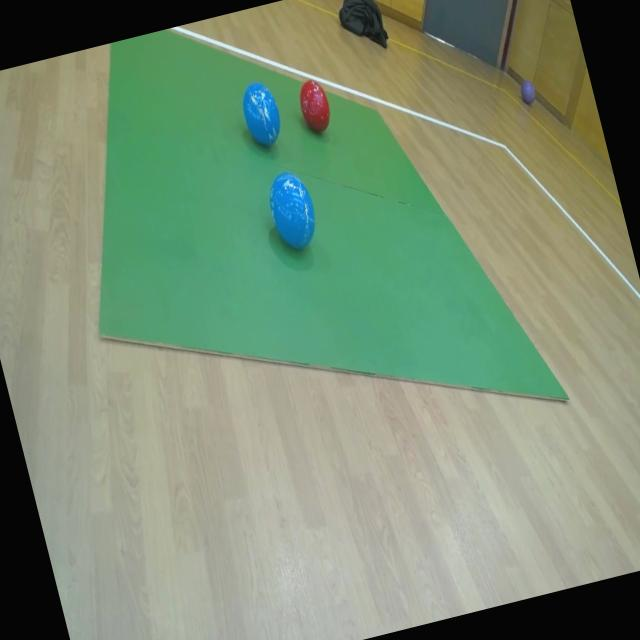blue_ball: (260, 158, 322, 257), (234, 75, 290, 154)
purple_ball: (514, 74, 544, 110)
red_ball: (287, 74, 339, 144)
